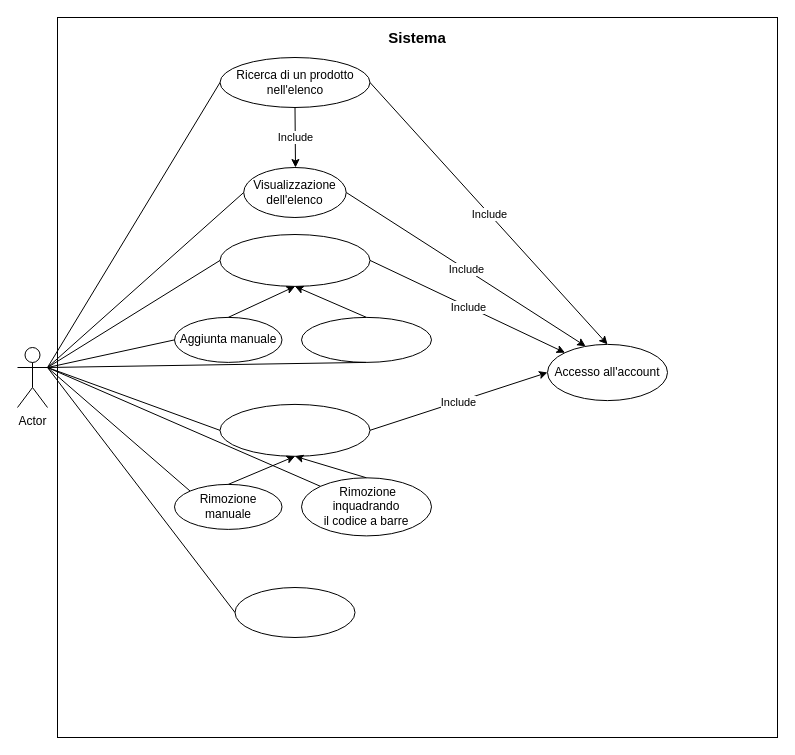
Some shapes in this 795 by 755 pixel diagram are drawn without their labels. Here are the shapes that lost their labels. From the top down, the centre of each, then its label:
the point at 294,260: Aggiunta di un prodotto all'elenco
the point at 366,339: Aggiunta inquadrando il codice a barre
the point at 294,429: Rimozione di un prodotto dall'elenco
the point at 294,612: Creazione di un account
